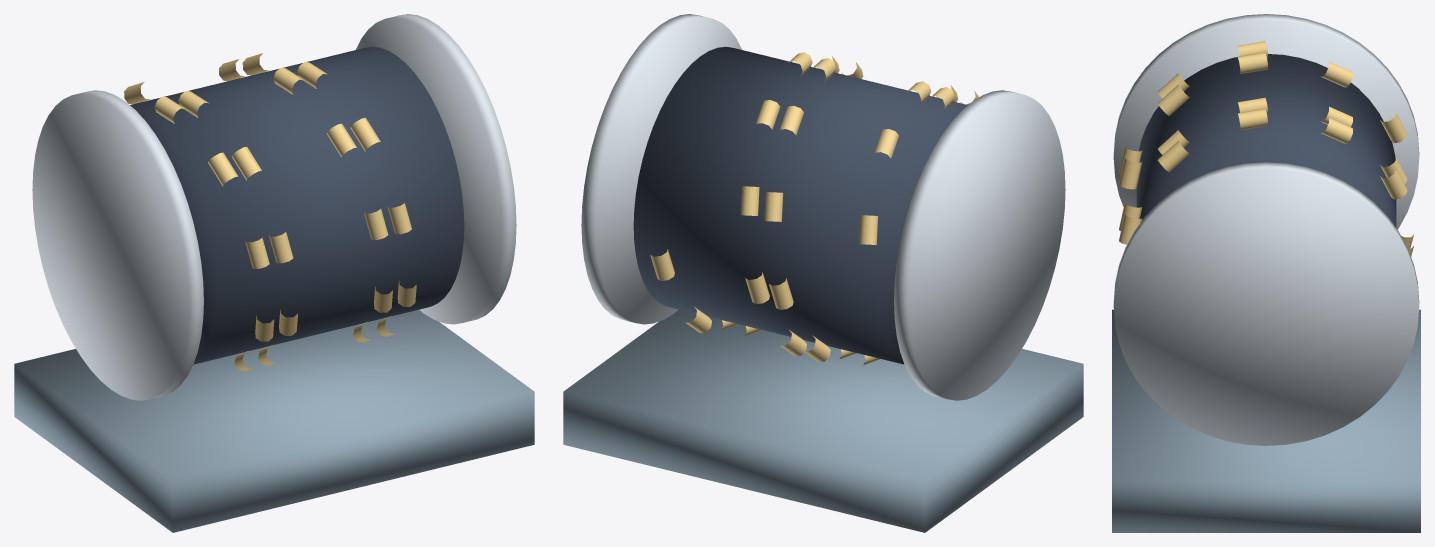
Rendered from 77_L92_TetherRetrievalWinch.glb.
3 views of the same model, side by side, from view 1: azimuth 30°, elevation 25°; view 2: azimuth 150°, elevation 25°; view 3: azimuth 270°, elevation 25° (orthographic). The views are drawn at different scales.
Visible parts, largest first — view 1: L92_TetherRetrievalWinch, L92_TetherRetrievalWinch_Part_0001, L92_TetherRetrievalWinch_Part_0003, L92_TetherRetrievalWinch_Part_0002; view 2: L92_TetherRetrievalWinch, L92_TetherRetrievalWinch_Part_0001, L92_TetherRetrievalWinch_Part_0003, L92_TetherRetrievalWinch_Part_0002; view 3: L92_TetherRetrievalWinch, L92_TetherRetrievalWinch_Part_0001, L92_TetherRetrievalWinch_Part_0003, L92_TetherRetrievalWinch_Part_0002.
Boxes of the visible parts, box(x1,y1,x2,y2) form: L92_TetherRetrievalWinch: box(14, 14, 534, 532); L92_TetherRetrievalWinch_Part_0001: box(130, 46, 464, 364); L92_TetherRetrievalWinch_Part_0003: box(124, 53, 416, 365); L92_TetherRetrievalWinch_Part_0002: box(154, 59, 392, 371); L92_TetherRetrievalWinch: box(563, 14, 1083, 532); L92_TetherRetrievalWinch_Part_0001: box(633, 46, 967, 364); L92_TetherRetrievalWinch_Part_0003: box(721, 52, 958, 359); L92_TetherRetrievalWinch_Part_0002: box(650, 58, 978, 365); L92_TetherRetrievalWinch: box(1112, 14, 1420, 532); L92_TetherRetrievalWinch_Part_0001: box(1136, 54, 1396, 227); L92_TetherRetrievalWinch_Part_0003: box(1119, 52, 1413, 256); L92_TetherRetrievalWinch_Part_0002: box(1119, 41, 1413, 248).
Bounding box in the file's own units: 2.5 × 2.42 × 1.9.
